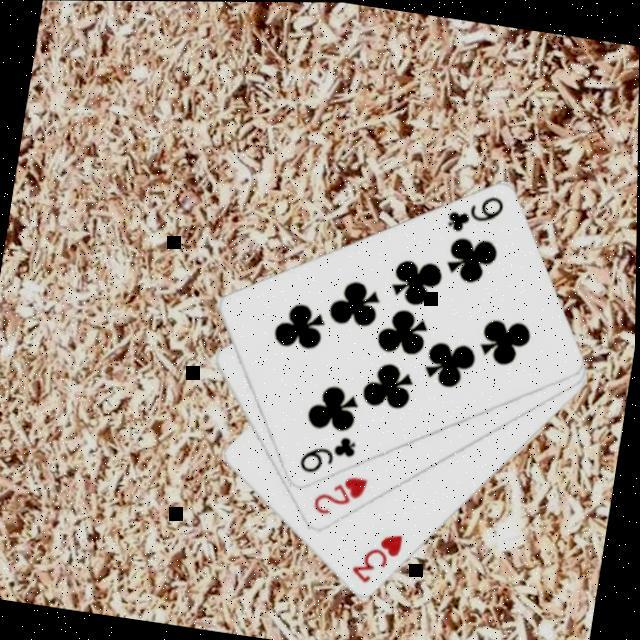2H: (306, 470, 371, 524)
3H: (346, 526, 406, 592)
9C: (293, 428, 360, 484), (440, 188, 508, 243)
